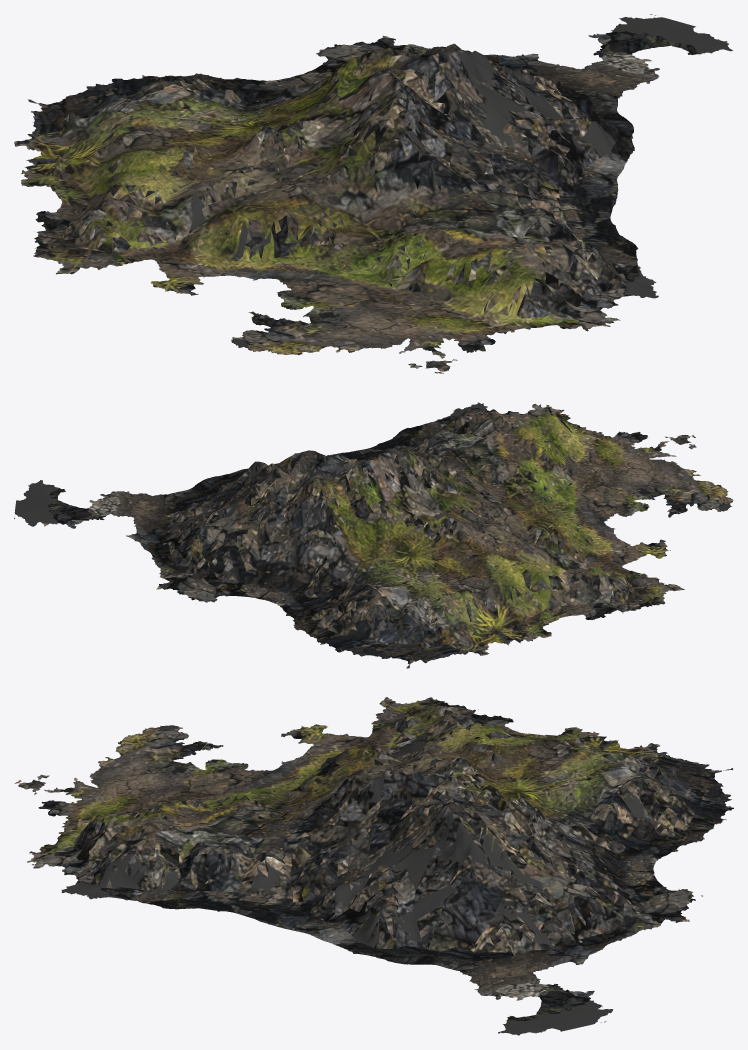
The model's file is terrain3.fbx.
3 views of the same model, one above another, from view 1: azimuth 30°, elevation 25°; view 2: azimuth 150°, elevation 25°; view 3: azimuth 270°, elevation 25° (orthographic). The views are drawn at different scales.
Visible parts, largest first — view 1: Mesh_0; view 2: Mesh_0; view 3: Mesh_0.
Part boxes in pixels (bbox=[...]): Mesh_0: bbox=[14, 14, 732, 373]; Mesh_0: bbox=[14, 402, 733, 668]; Mesh_0: bbox=[14, 697, 733, 1035].
Size of the model in its own units: 97.09 by 12.08 by 87.26.
1 material, 1 textured.
